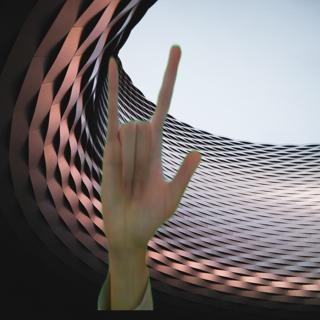ILY: (94, 42, 208, 264)
